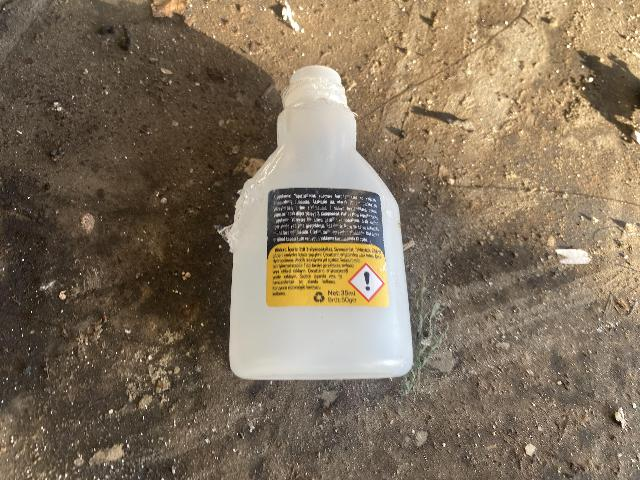Plastik: (221, 65, 413, 387)
